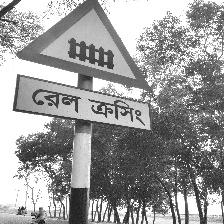Rail-crossing: (12, 0, 156, 132)
